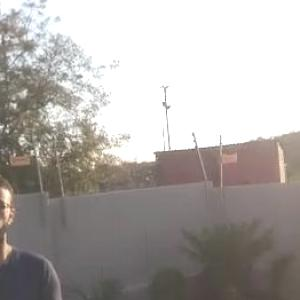follow: (1, 166, 70, 299)
